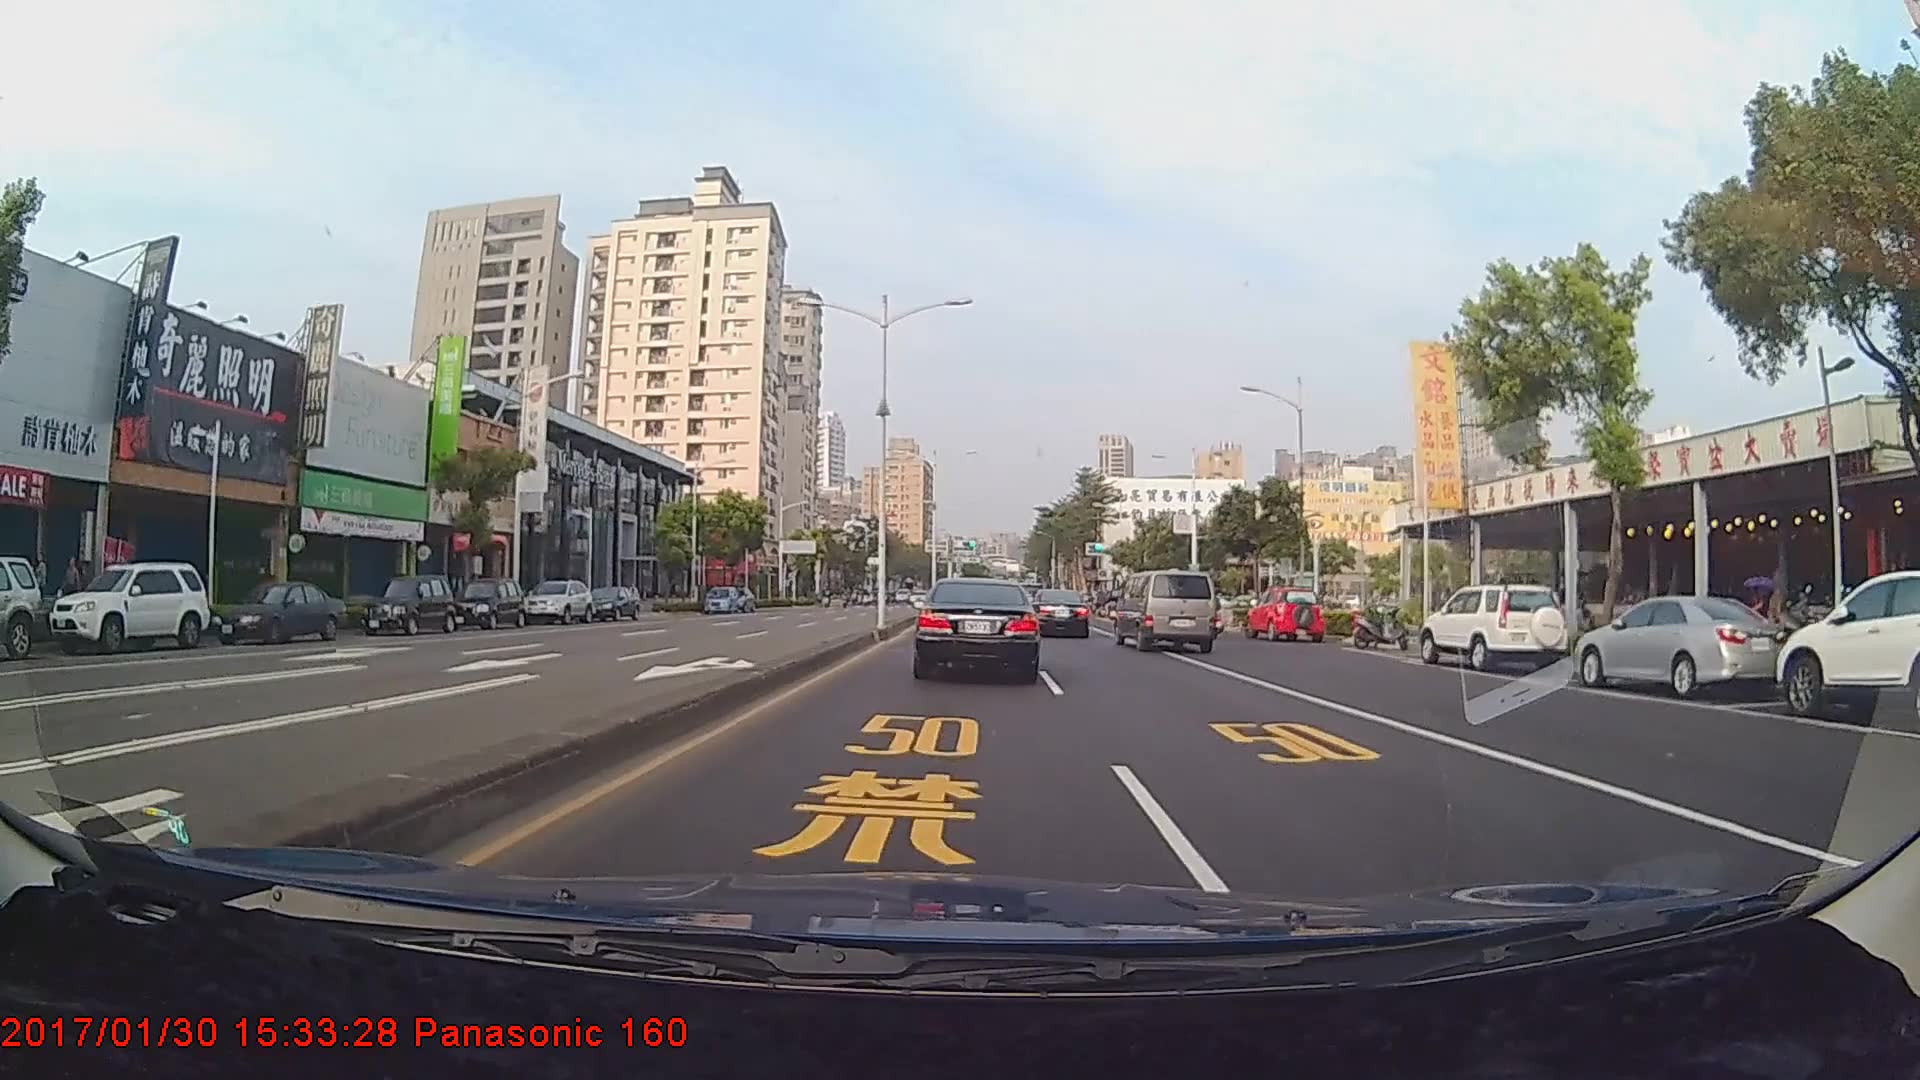vehicle: (1573, 588, 1782, 696), (1778, 570, 1920, 727), (46, 560, 208, 651), (913, 575, 1040, 680), (1418, 583, 1568, 671), (207, 578, 345, 647), (1116, 568, 1218, 651), (357, 574, 455, 634), (0, 554, 45, 657), (1247, 585, 1324, 644), (448, 579, 525, 632), (518, 578, 595, 626), (1029, 588, 1091, 638), (579, 585, 641, 620), (702, 583, 738, 612)
